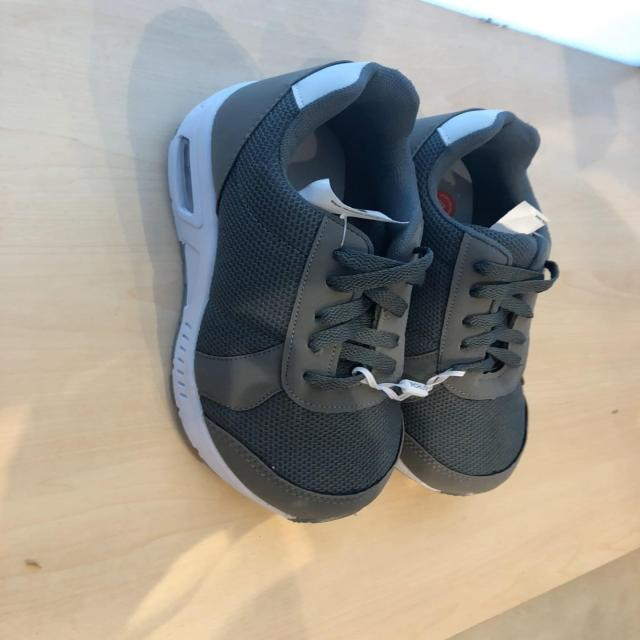shoe: (179, 59, 425, 521)
